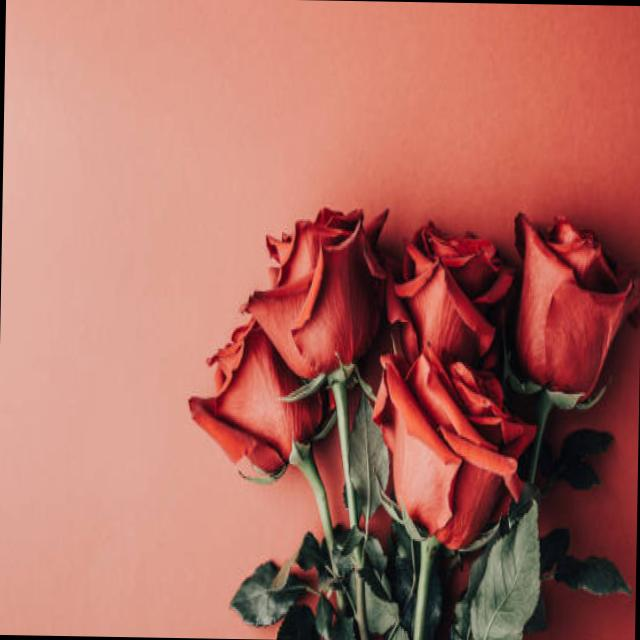paper: (183, 160, 640, 640), (207, 184, 630, 492), (487, 497, 566, 640)
